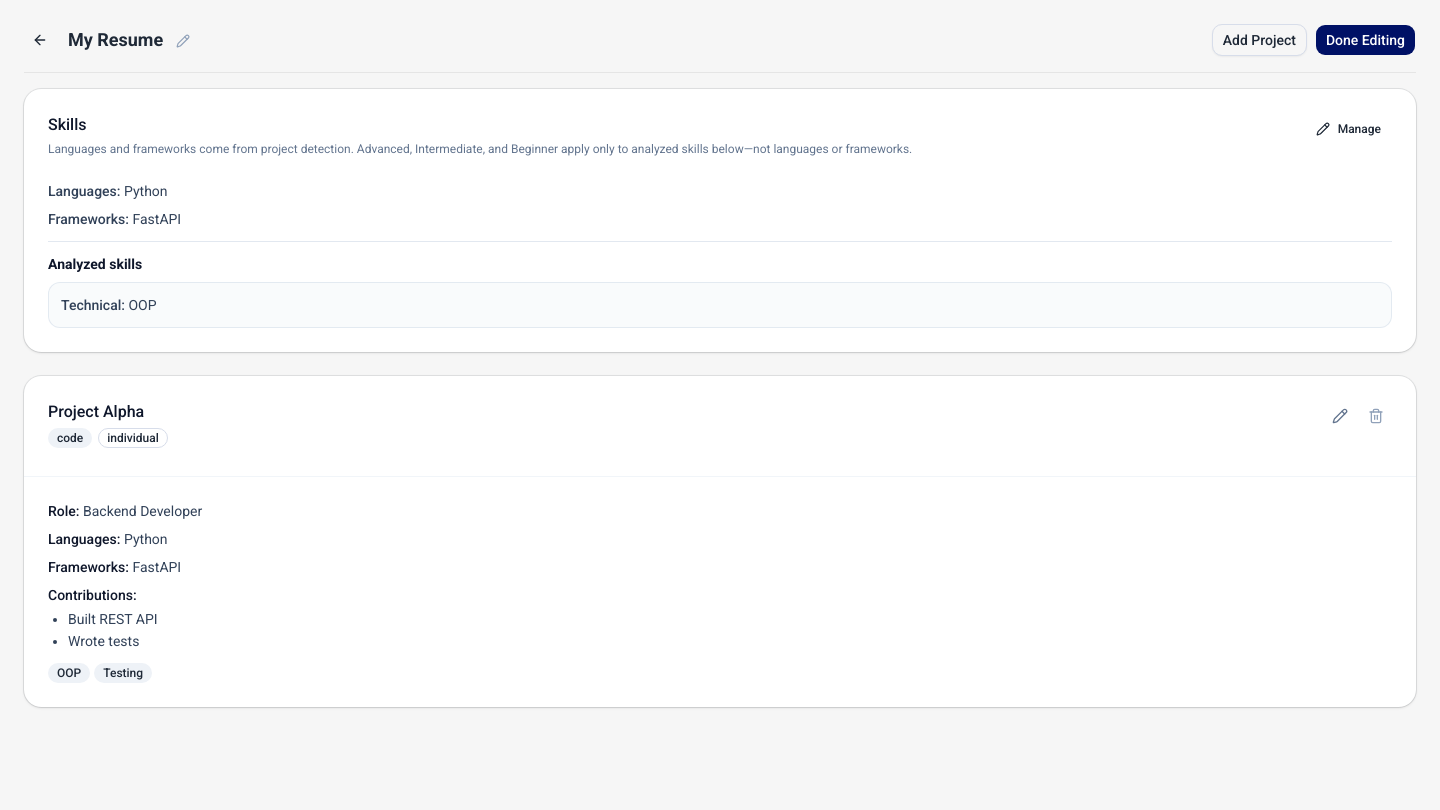
ResumeDetail › editing project fields › cancels project edit without saving
Expected: the text "Project Alpha" is shown, [48,402,144,421]
Click the button named "Edit project". click: (1340, 416)
box: [1324,400,1356,432]
(page scrolled)
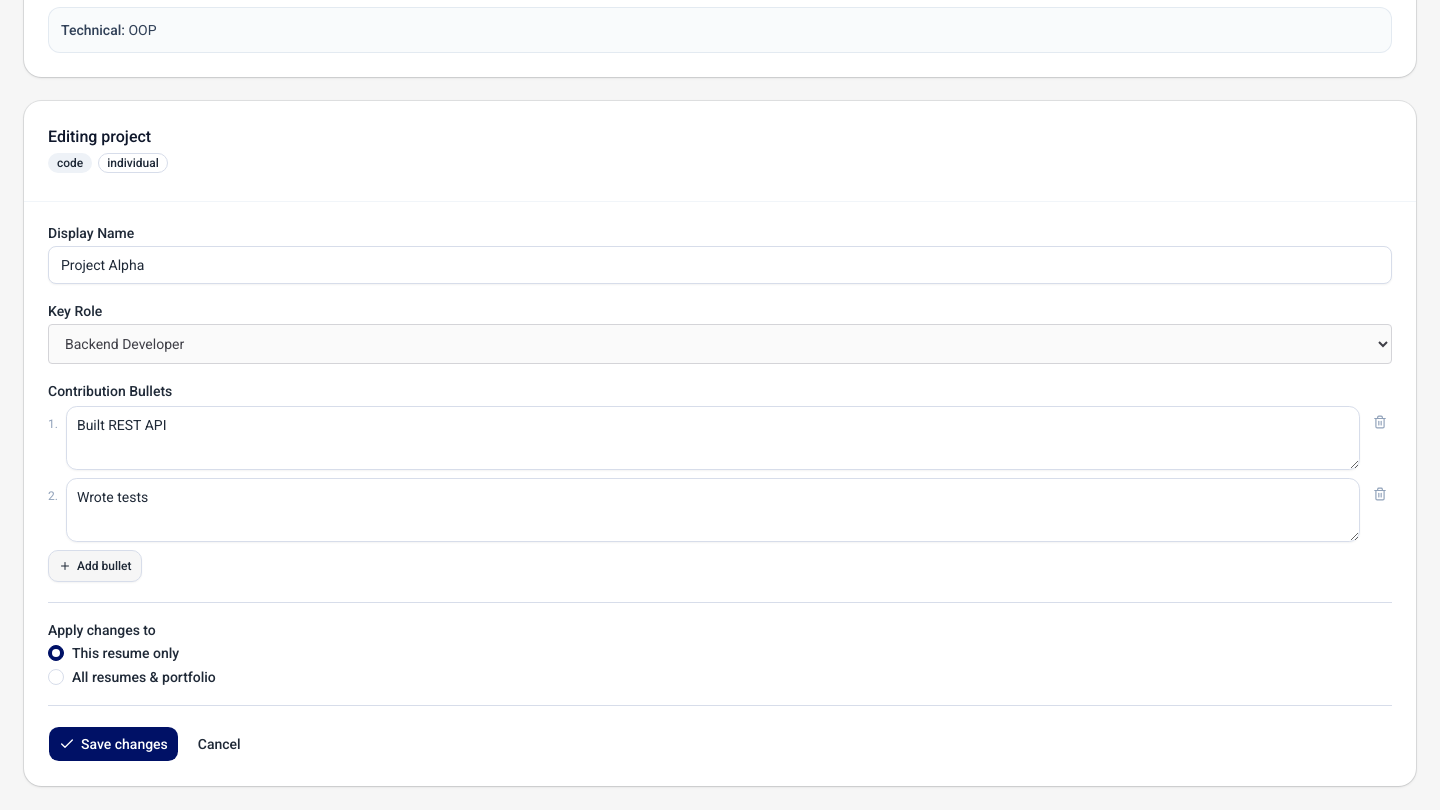
Now the button "Cancel" is shown
Click the button "Cancel". click: (219, 744)
box: [187,726,252,762]
(page scrolled)
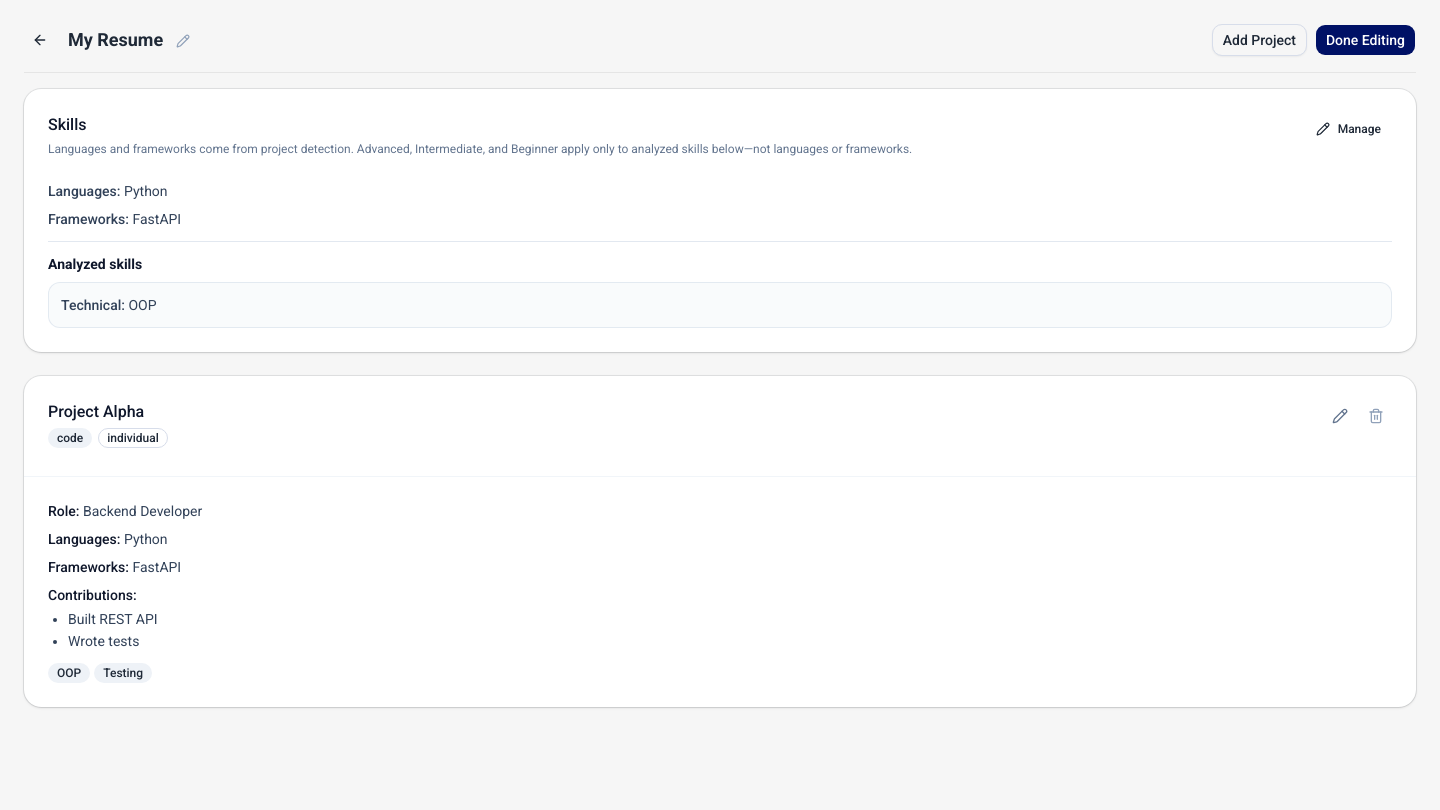
Now the label labelled "Display Name" is gone
